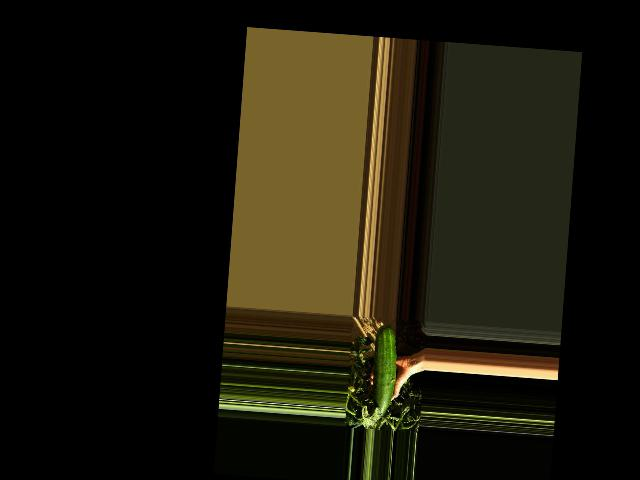cucumber: (369, 324, 399, 418)
